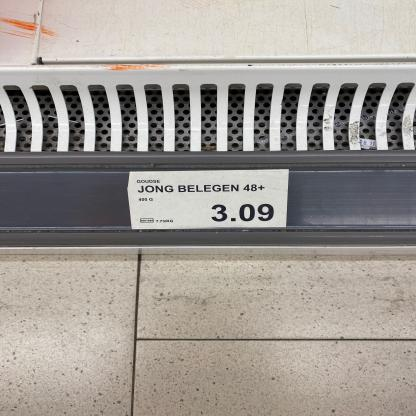prtg: (127, 170, 290, 230)
